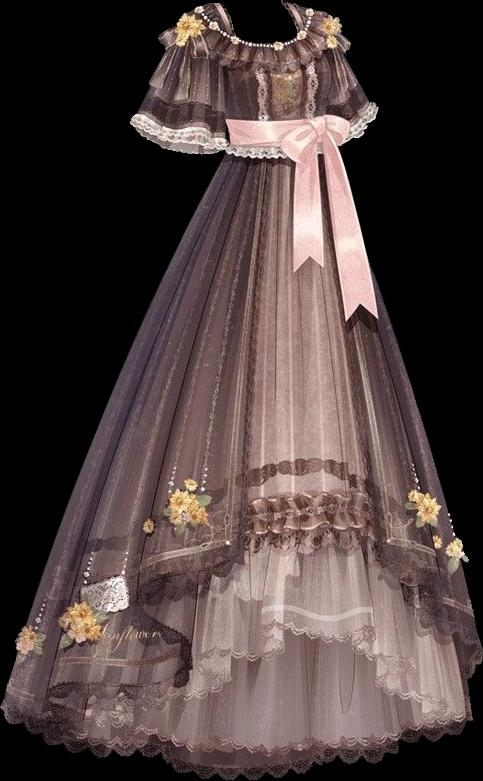Bodice: (173, 0, 341, 161)
Hemline: (1, 530, 482, 726)
Neckline: (213, 1, 302, 50), (225, 110, 330, 127)
Skirt: (2, 142, 482, 779)
Sleeve: (130, 19, 231, 154)
Sleeveline: (173, 25, 228, 93)
Waistline: (174, 24, 345, 75), (131, 117, 231, 149), (222, 143, 335, 167), (146, 81, 228, 114)
